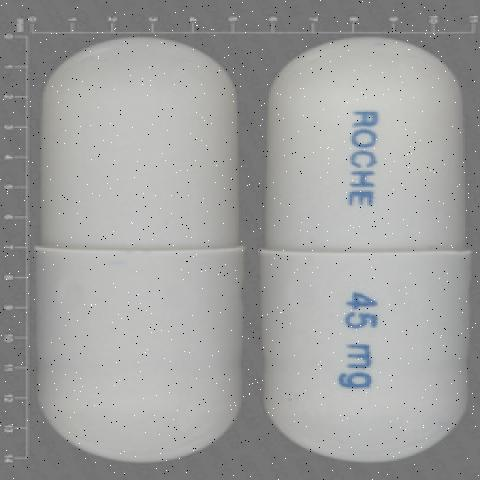hands: (29, 26, 253, 472), (260, 26, 480, 470)
